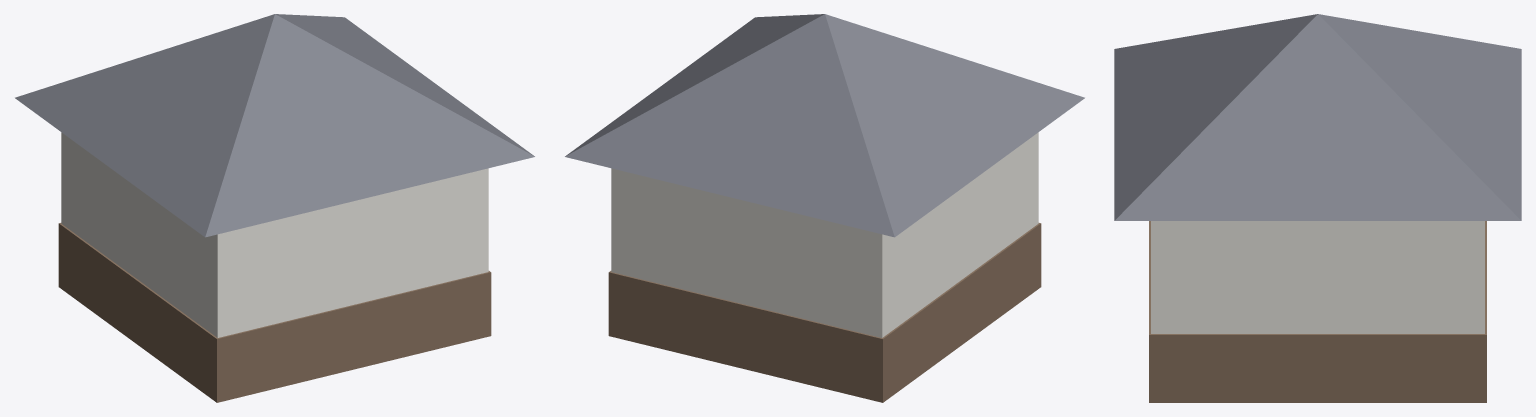
The model's file is house.glb.
3 views of the same model, side by side, from view 1: azimuth 30°, elevation 25°; view 2: azimuth 150°, elevation 25°; view 3: azimuth 270°, elevation 25° (orthographic). The views are drawn at different scales.
Parts seen in each view (by area): view 1: house; view 2: house; view 3: house.
Boxes of the visible parts, bbox=[...] form: house: bbox=[15, 14, 534, 402]; house: bbox=[565, 14, 1084, 402]; house: bbox=[1114, 14, 1521, 402].
Size of the model in its own units: 4.88 by 4.2 by 4.88.
